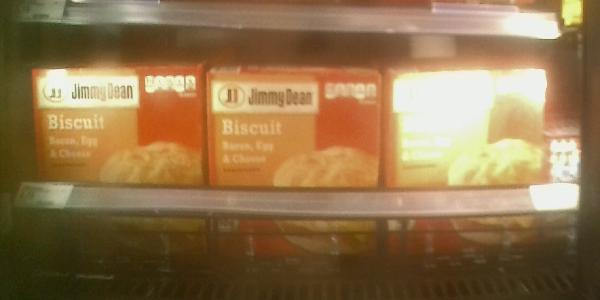icecream: (27, 67, 204, 266), (207, 70, 381, 259), (387, 71, 546, 249)
